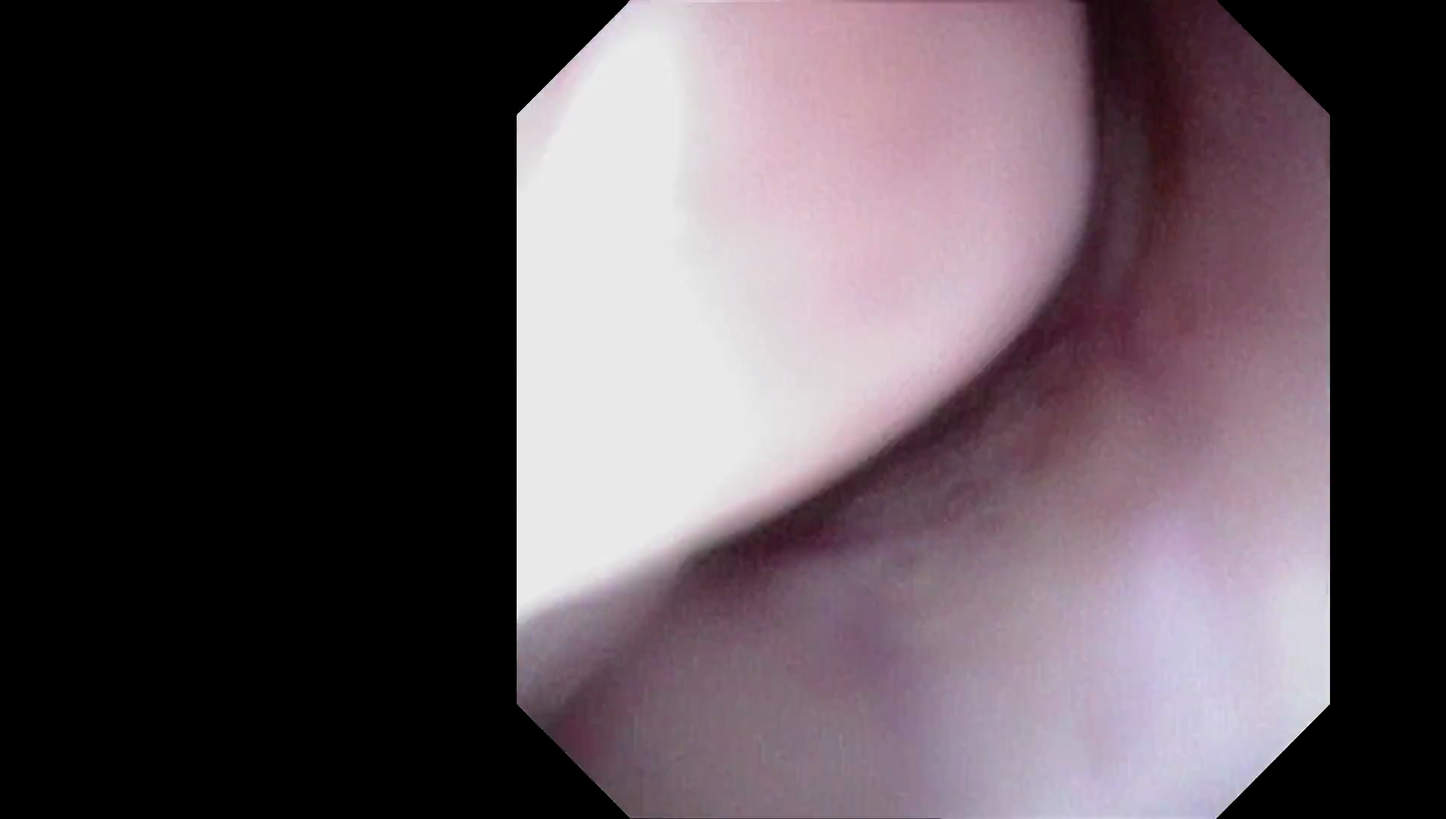close_wall: (535, 35, 918, 598)
next: (693, 348, 1034, 581), (1019, 0, 1177, 282)
